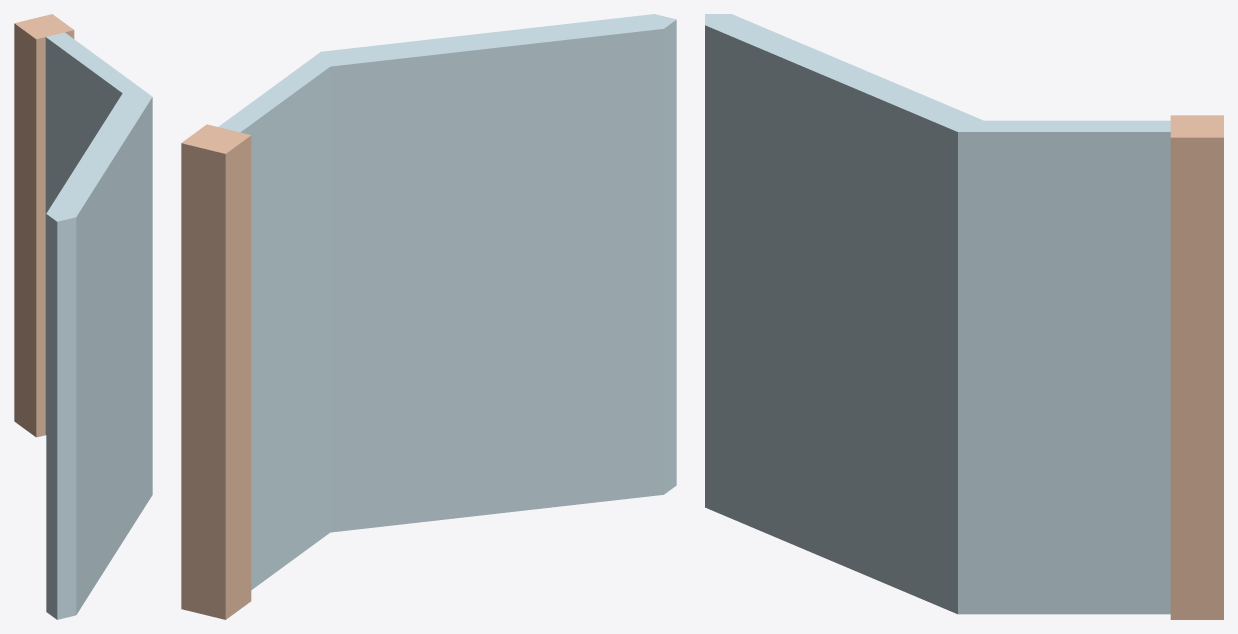
The picture shows the model from 3 angles, left to right: view 1: azimuth 30°, elevation 25°; view 2: azimuth 150°, elevation 25°; view 3: azimuth 270°, elevation 25°; orthographic projection. The views are drawn at different scales.
Visible parts, largest first — view 1: wallCornerDiagonalHalf; view 2: wallCornerDiagonalHalf; view 3: wallCornerDiagonalHalf.
Part boxes in pixels (bbox=[...]): wallCornerDiagonalHalf: bbox=[14, 14, 152, 619]; wallCornerDiagonalHalf: bbox=[181, 14, 676, 619]; wallCornerDiagonalHalf: bbox=[705, 14, 1223, 619].
Bounding box in the file's own units: 0.55 × 1 × 0.975.
